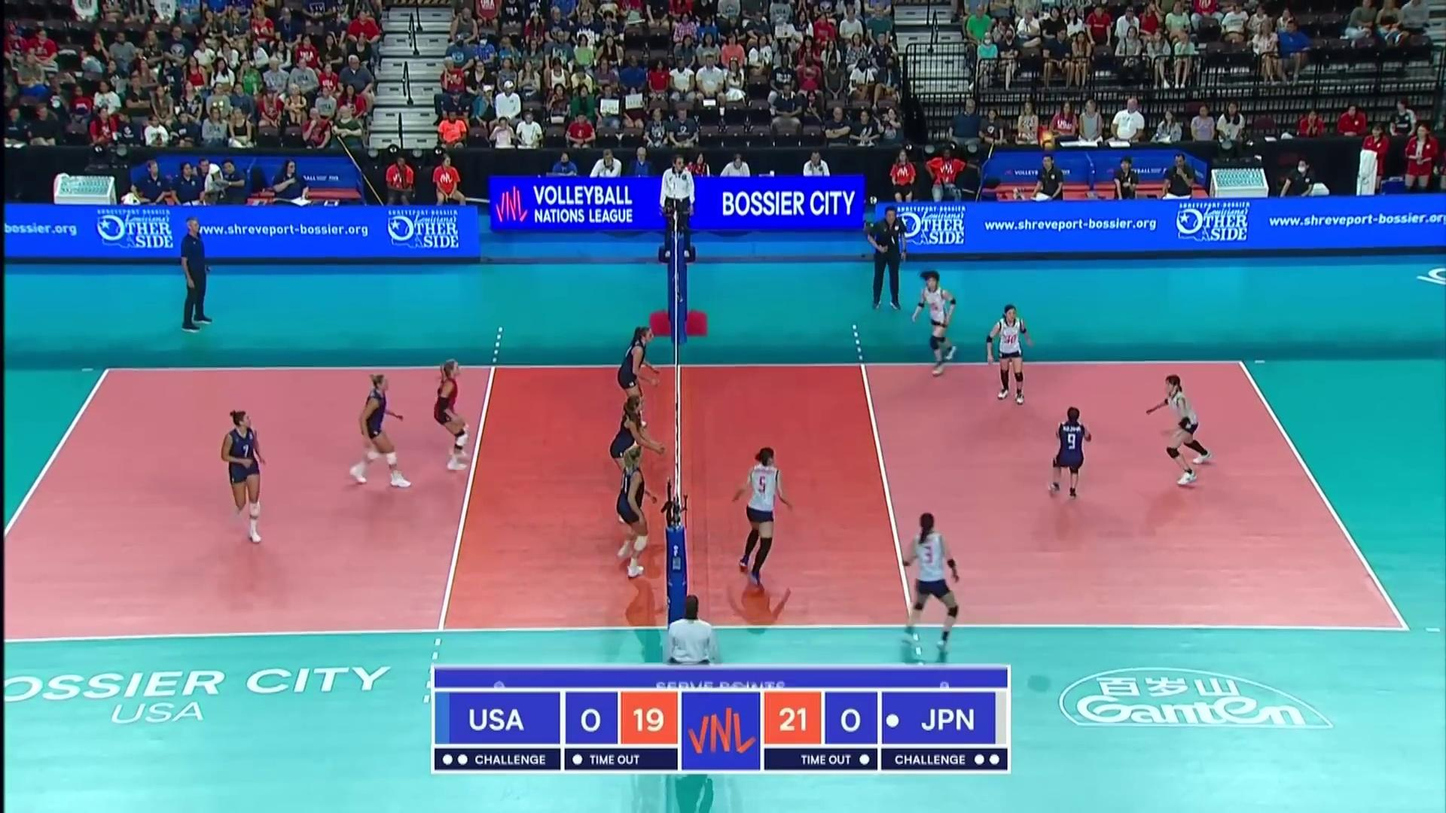player: (898, 510, 961, 650), (1148, 377, 1217, 492), (733, 449, 787, 585), (215, 412, 265, 545), (356, 375, 413, 489), (432, 351, 478, 476), (914, 271, 964, 382), (616, 328, 661, 447), (609, 396, 649, 522), (985, 305, 1034, 404), (617, 446, 650, 580), (1047, 408, 1092, 502)
refree: (669, 596, 714, 738), (662, 154, 693, 260)
